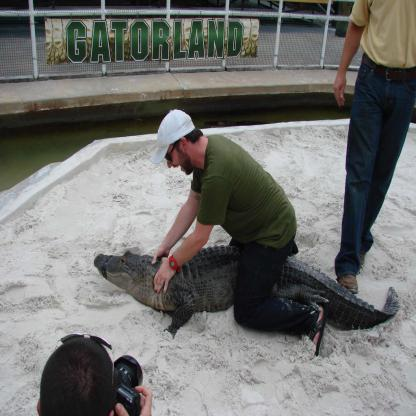Camera: (105, 359, 156, 414)
